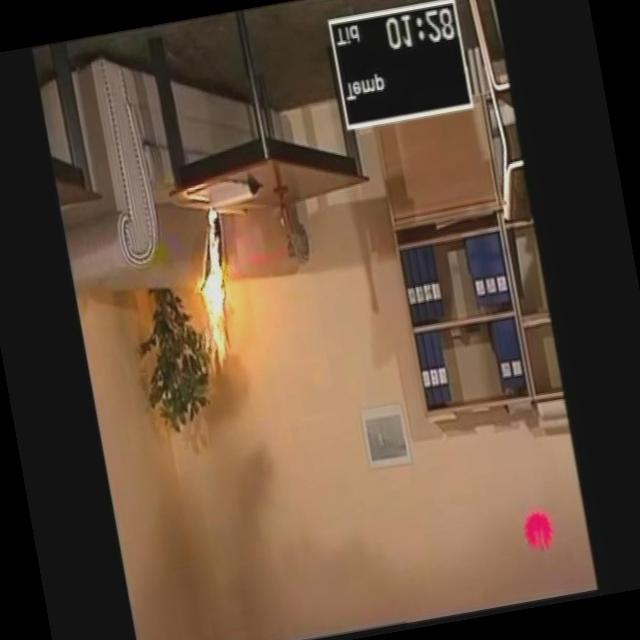fire: (178, 216, 263, 380)
